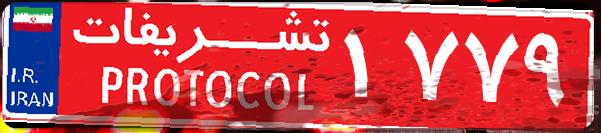1: (340, 20, 400, 115)
7: (400, 20, 460, 115), (460, 20, 520, 115)
9: (520, 20, 580, 115)
تشریفات: (60, 8, 340, 125)
